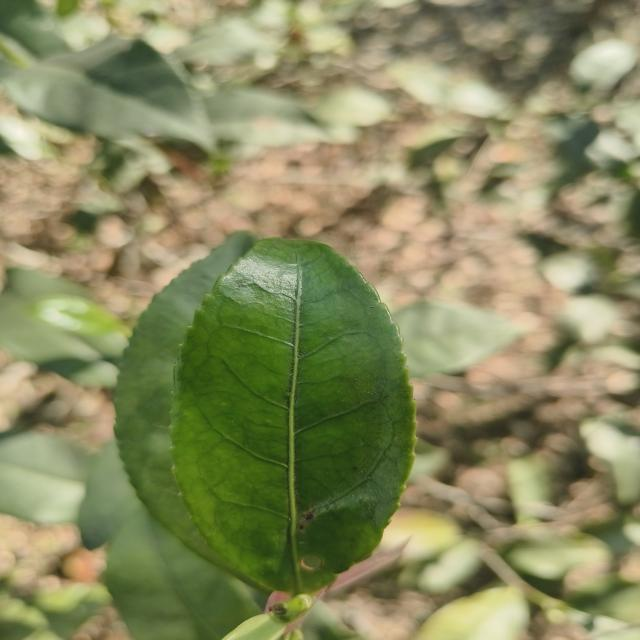Leaf: (171, 238, 415, 595), (114, 232, 255, 578), (85, 443, 264, 640), (2, 36, 213, 149), (0, 268, 128, 388), (394, 301, 520, 378), (0, 431, 90, 524), (205, 87, 326, 147), (414, 586, 529, 640)
